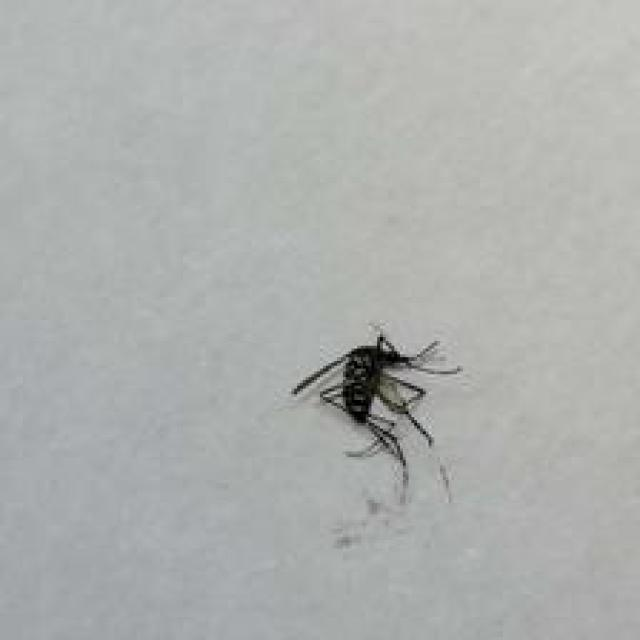Aedes albopictus: (288, 323, 463, 506)
